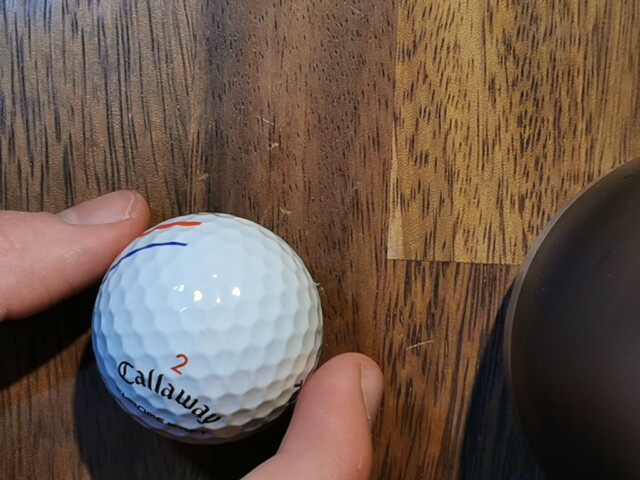Ball: (91, 212, 323, 445)
Callaway: (117, 361, 222, 425)
